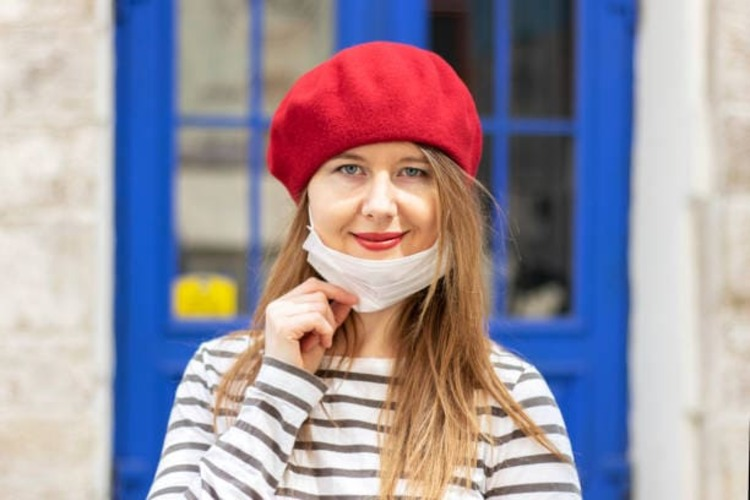with_incorrect_mask: (309, 133, 450, 315)
